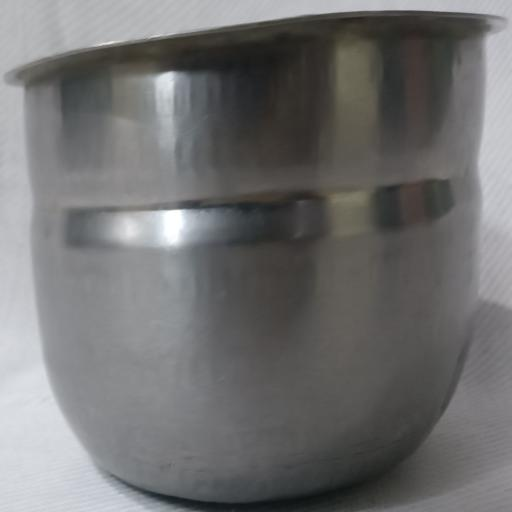vessel: (10, 13, 503, 502)
